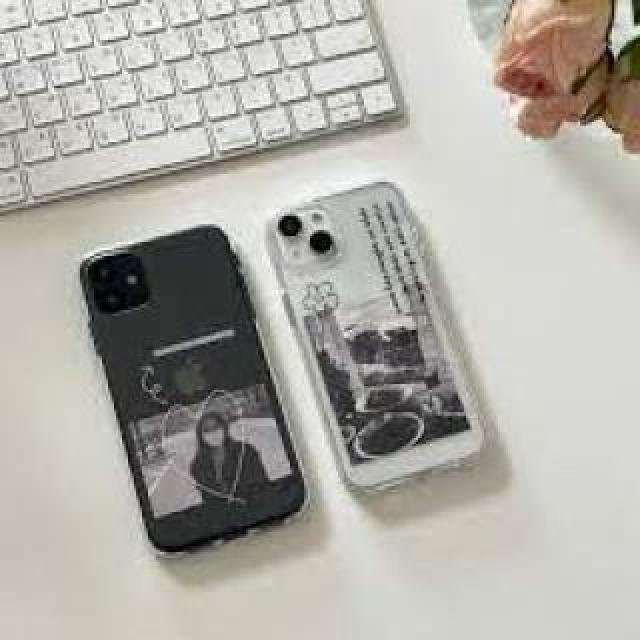smart phone: (275, 183, 493, 470), (70, 225, 245, 567)
